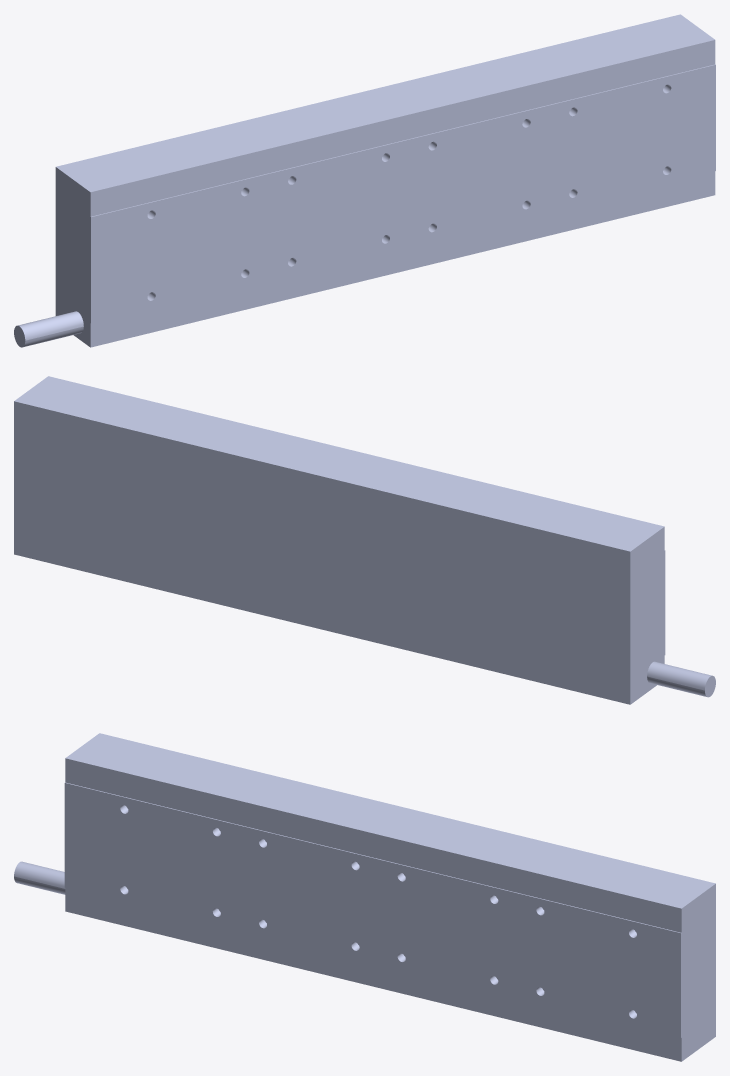
Rendered from MTB-18.glb.
The picture shows the model from 3 angles, top to bottom: view 1: azimuth 30°, elevation 25°; view 2: azimuth 150°, elevation 25°; view 3: azimuth 330°, elevation 25°; orthographic projection.
Visible parts, largest first — view 1: MTB-18_node_1; view 2: MTB-18_node_1; view 3: MTB-18_node_1.
Boxes of the visible parts, box(x1,y1,x2,y2) form: MTB-18_node_1: box(14, 14, 715, 347); MTB-18_node_1: box(14, 376, 715, 704); MTB-18_node_1: box(14, 733, 715, 1061).
Size of the model in its own units: 350 by 76 by 31.4.
